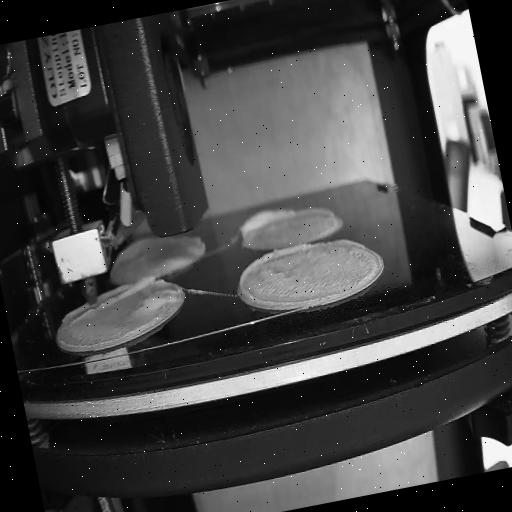over_extrusion: (234, 240, 322, 318), (234, 200, 301, 241), (94, 270, 158, 309), (327, 232, 368, 256), (299, 200, 336, 225), (64, 303, 98, 328)
